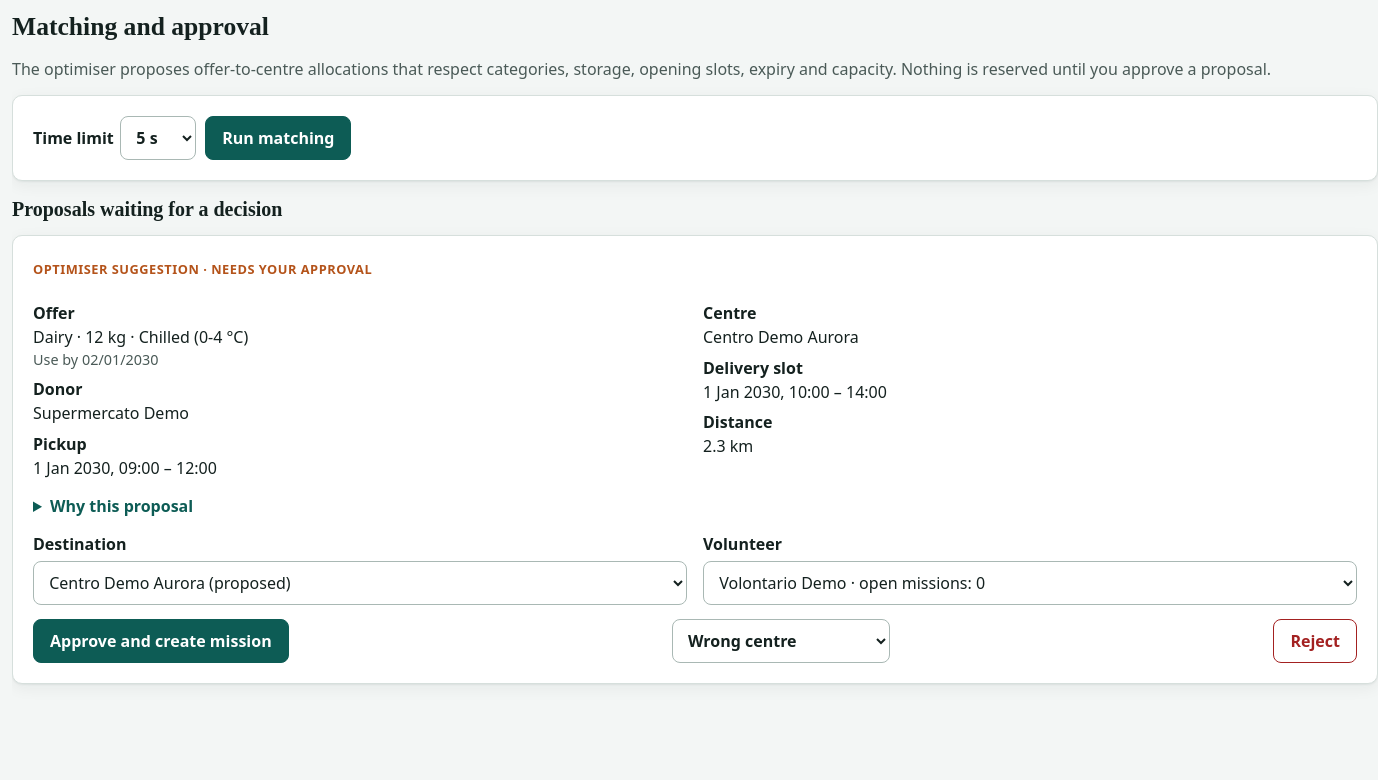
operations screens › approves a proposal with its content hash, the chosen centre and a volunteer
The width and height of the screenshot is (1378, 780).
Expected: the text "Optimiser suggestion · needs your approval" is shown, [33, 260, 372, 280]
Select "Emporio Solidale Demo · 4.1 km" in the dropdown labelled "Destination" at (360, 583), box [33, 561, 687, 605]
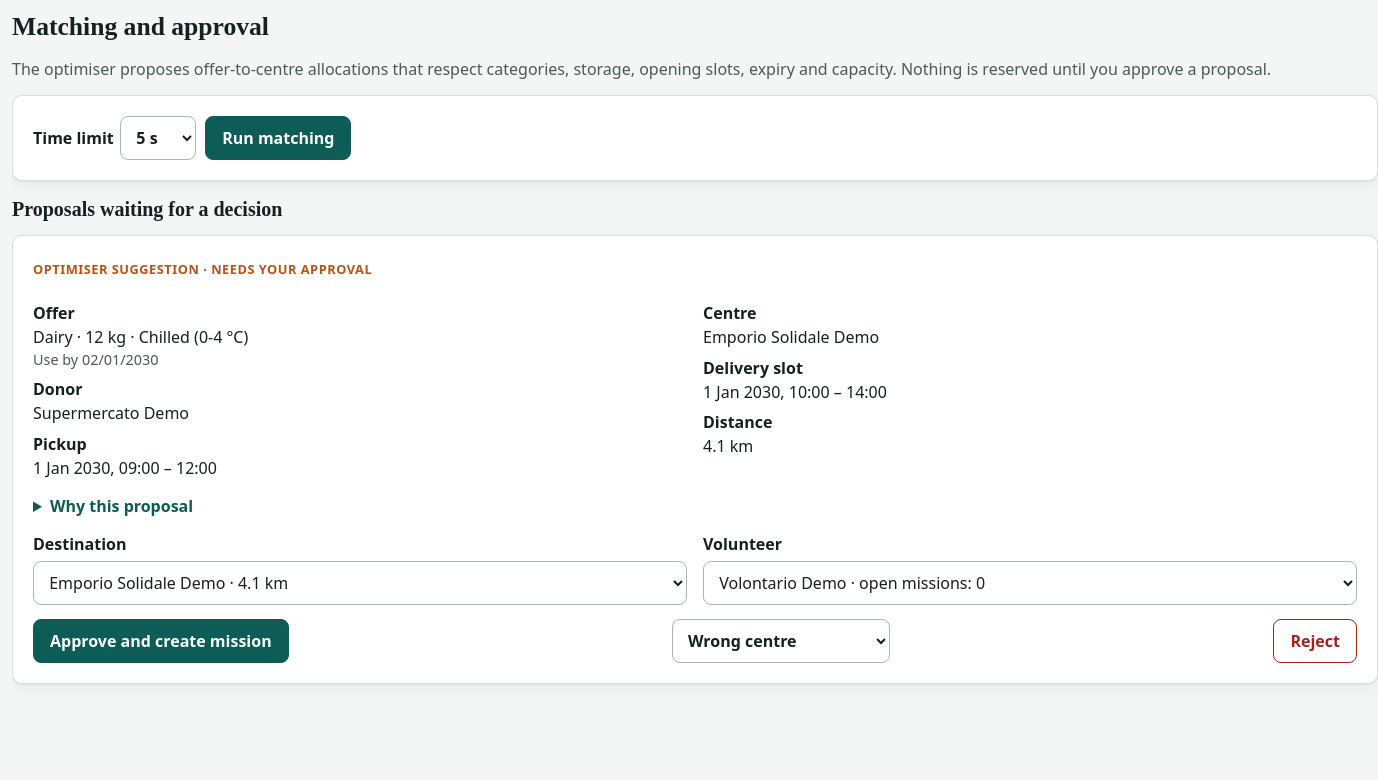
Click the button "Approve and create mission".
click(161, 641)  # box [33, 619, 289, 663]
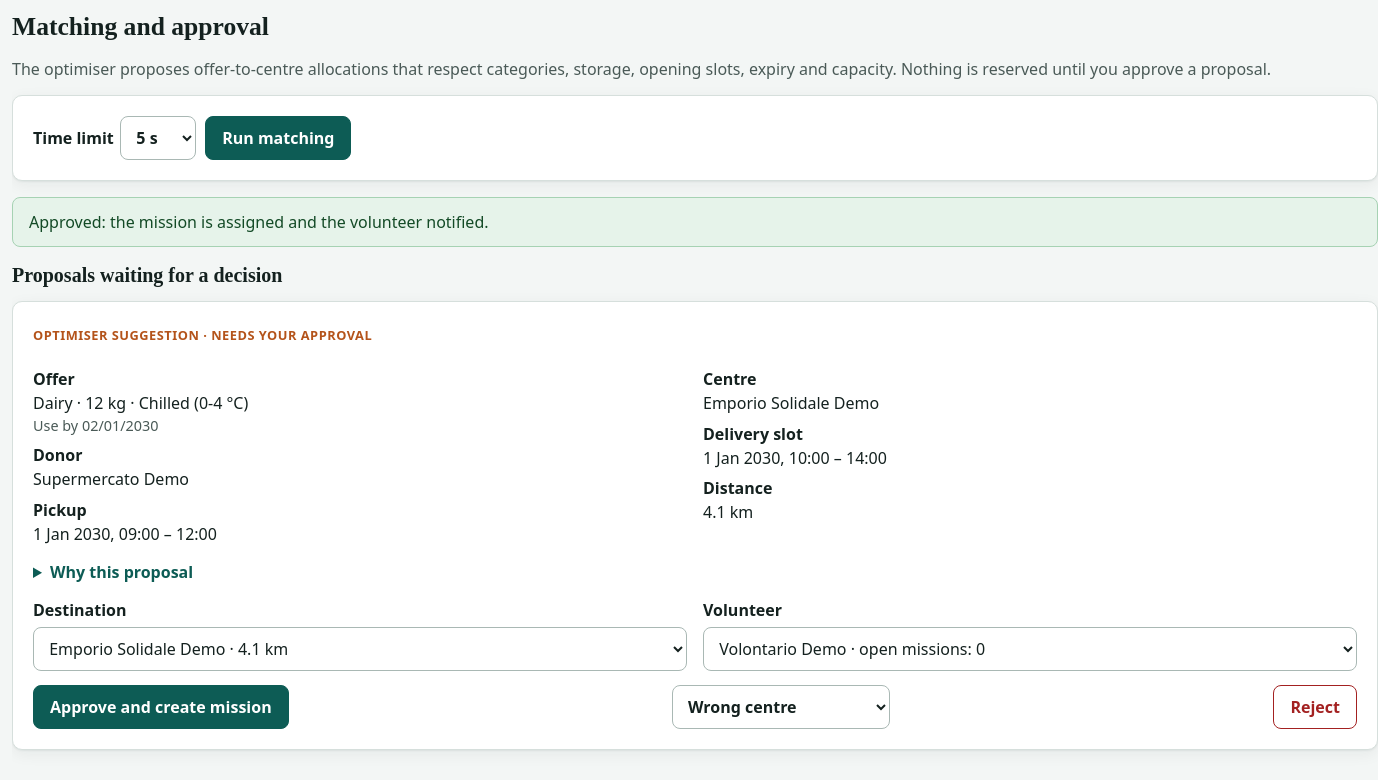
Expected: the text "the mission is assigned" is shown, [29, 211, 488, 233]
